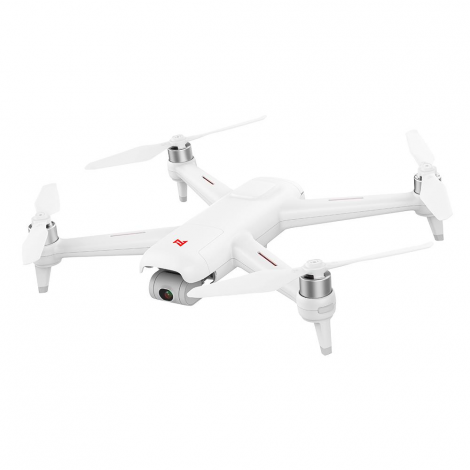drone: (20, 111, 455, 361)
